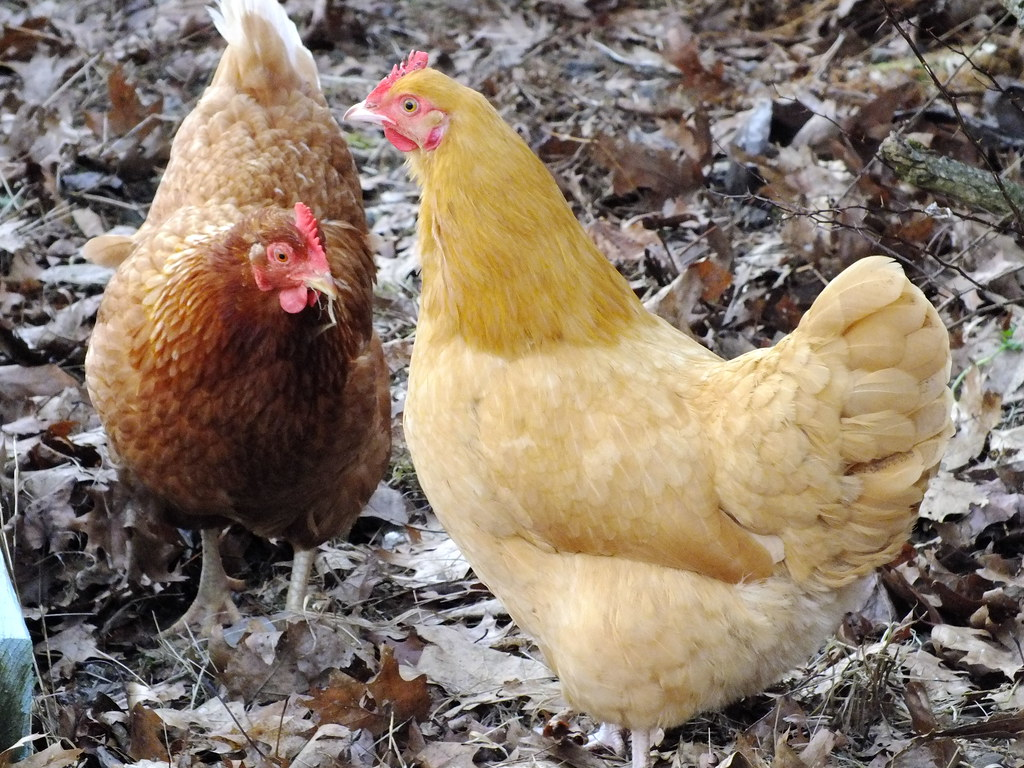buff: (337, 46, 953, 647), (104, 37, 343, 558)
